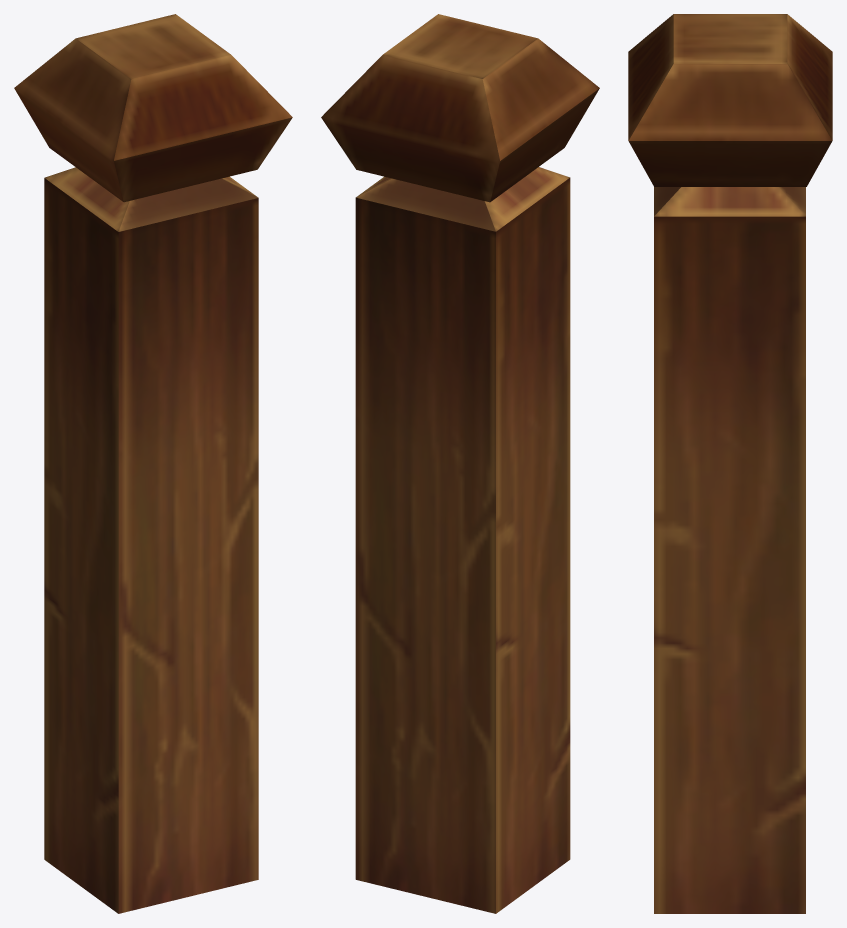
The model's file is yuanzhu01.FBX.
3 renders of one model, left to right at view 1: azimuth 30°, elevation 25°; view 2: azimuth 150°, elevation 25°; view 3: azimuth 270°, elevation 25°, orthographic. The views are drawn at different scales.
Parts seen in each view (by area): view 1: yuanzhu01; view 2: yuanzhu01; view 3: yuanzhu01.
Boxes of the visible parts, bbox=[...] form: yuanzhu01: bbox=[14, 14, 292, 913]; yuanzhu01: bbox=[321, 14, 599, 913]; yuanzhu01: bbox=[628, 14, 832, 913].
Size of the model in its own units: 19.51 by 85.6 by 18.82.
